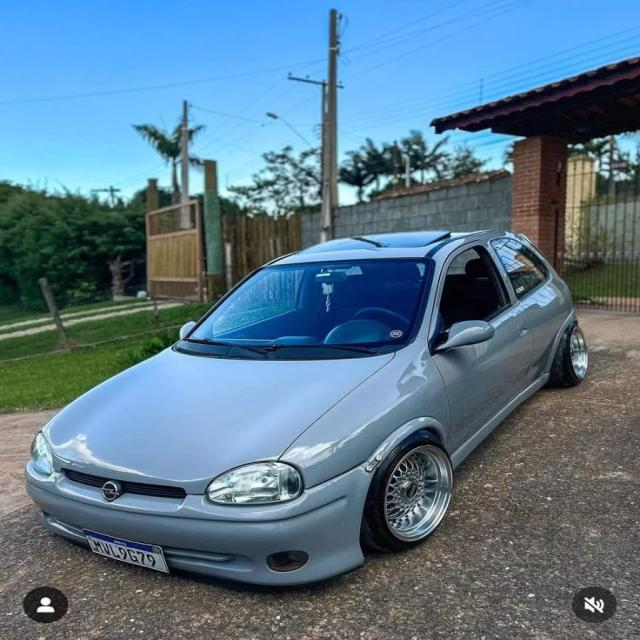Placas: (81, 529, 170, 574)
